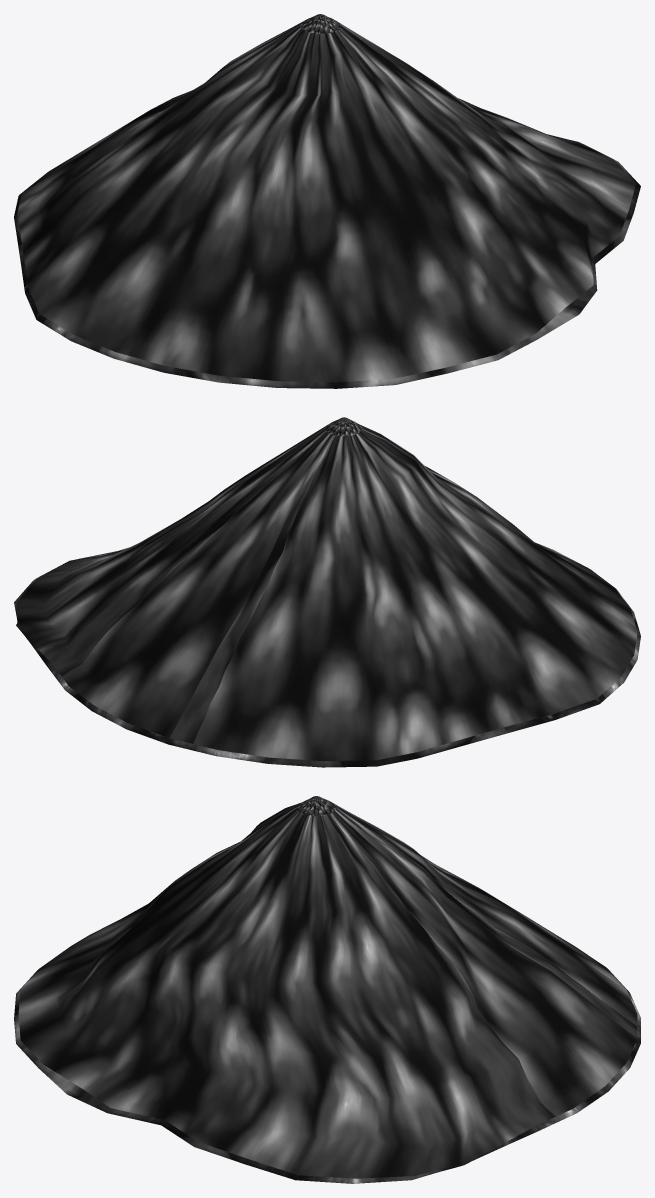
The model's file is пропант.FBX.
3 renders of one model, top to bottom at view 1: azimuth 30°, elevation 25°; view 2: azimuth 150°, elevation 25°; view 3: azimuth 270°, elevation 25°, orthographic. The views are drawn at different scales.
Visible parts, largest first — view 1: пропант; view 2: пропант; view 3: пропант.
Boxes of the visible parts, box(x1,y1,x2,y2) form: пропант: box(14, 14, 640, 388); пропант: box(14, 417, 640, 767); пропант: box(14, 796, 640, 1183).
Size of the model in its own units: 37.67 by 14.46 by 34.82.
1 material, 1 textured.
